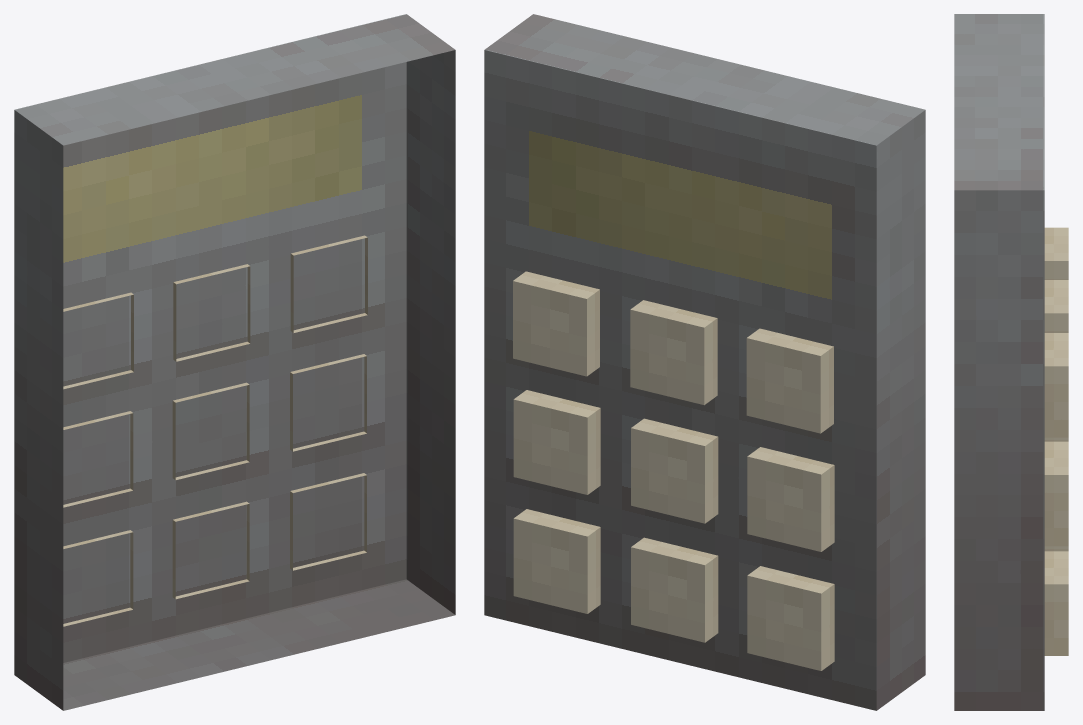
File: Seeker_Numpad.fbx
3 views of the same model, side by side, from view 1: azimuth 30°, elevation 25°; view 2: azimuth 150°, elevation 25°; view 3: azimuth 270°, elevation 25° (orthographic). The views are drawn at different scales.
Parts seen in each view (by area): view 1: Cube, Cube.004, Cube.001, Cube.007, Cube.002, Cube.008, Cube.005, Cube.006, Cube.009, Cube.003; view 2: Cube, Cube.003, Cube.008, Cube.004, Cube.006, Cube.001, Cube.005, Cube.007, Cube.009, Cube.002; view 3: Cube, Cube.005, Cube.002, Cube.008, Cube.001, Cube.003.
Part boxes in pixels (x1,y1,x2,y2): Cube: (14,14,455,710); Cube.004: (172,382,249,480); Cube.001: (173,264,250,361); Cube.007: (172,501,249,599); Cube.002: (290,235,367,332); Cube.008: (290,473,366,570); Cube.005: (290,354,366,451); Cube.006: (63,411,133,507); Cube.009: (63,530,133,626); Cube.003: (63,292,133,389); Cube: (484,14,925,710); Cube.003: (746,328,833,433); Cube.008: (513,509,600,613); Cube.004: (631,418,718,523); Cube.006: (747,447,834,551); Cube.001: (630,300,717,405); Cube.005: (513,390,600,494); Cube.007: (631,537,718,642); Cube.009: (747,566,834,670); Cube.002: (513,271,599,376); Cube: (954,14,1044,710); Cube.005: (1044,441,1068,546); Cube.002: (1044,333,1068,437); Cube.008: (1044,551,1068,655); Cube.001: (1044,280,1068,332); Cube.003: (1044,227,1068,279).
Size of the model in its own units: 150 by 206 by 41.16.
